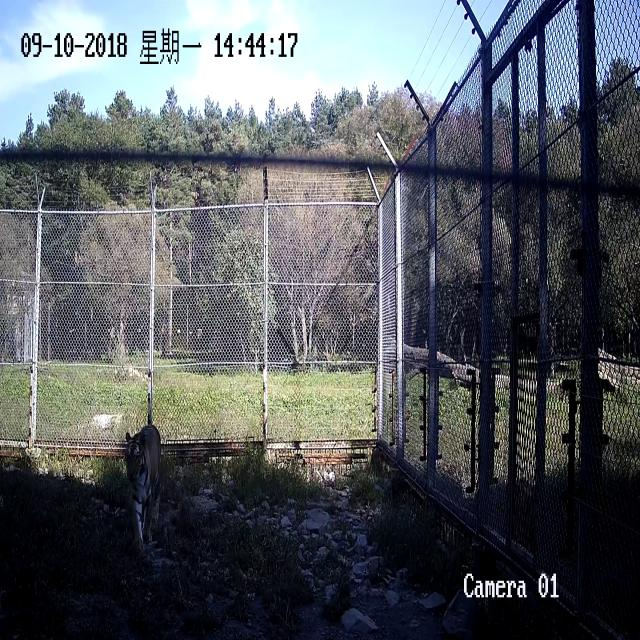Tiger: (116, 405, 179, 550)
